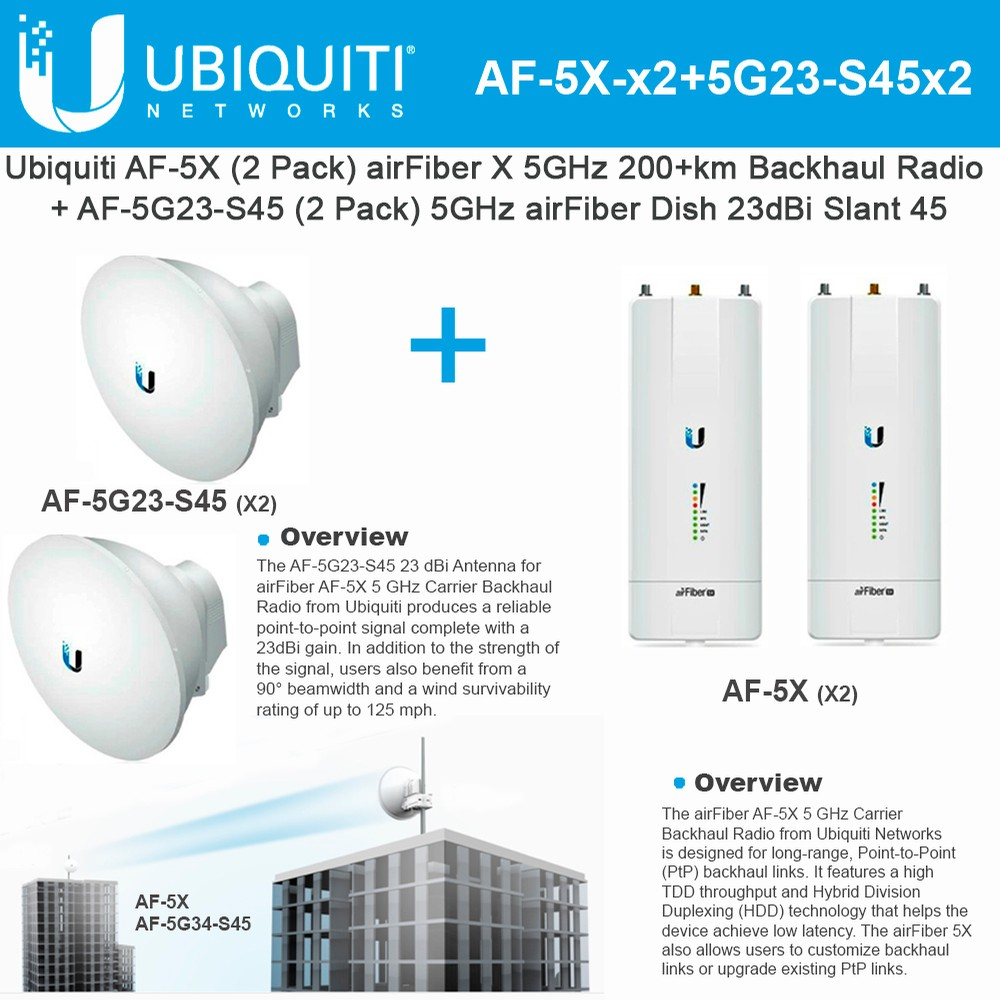ba: (3, 520, 230, 773), (70, 242, 306, 484)
